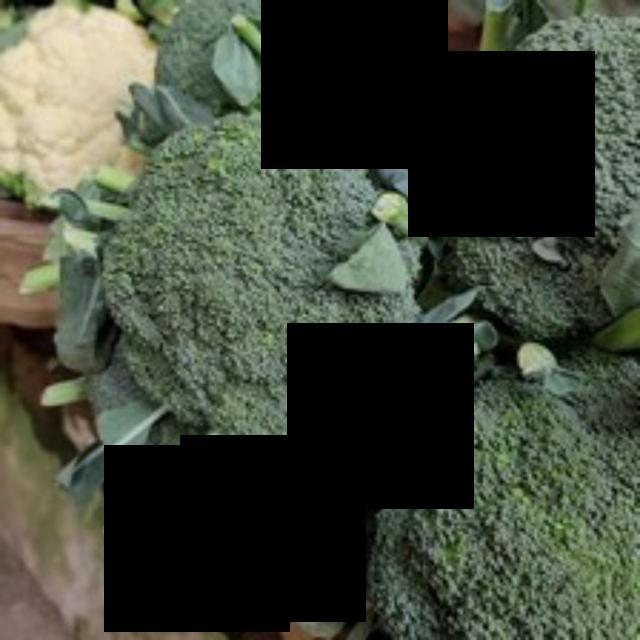broccoli: (88, 87, 454, 469)
